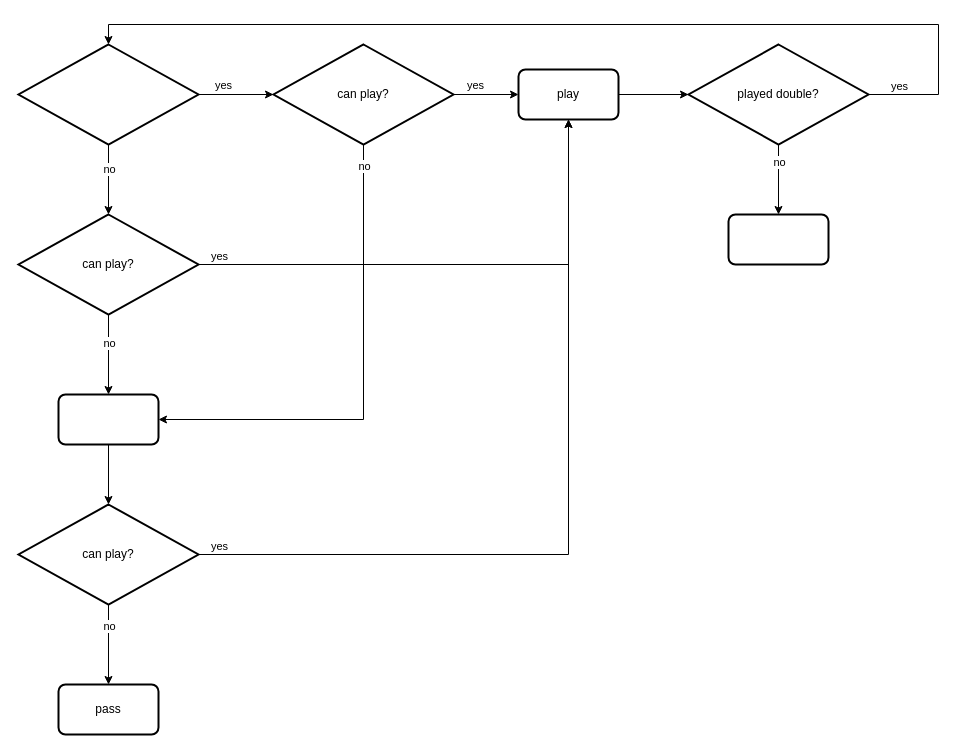
The diagram is 964 pixels wide and 753 high, and some of its shapes have lost their labels. Each missing label, with the centre of its shape:
done: the point at 778,239
draw: the point at 108,419
uncovered double?: the point at 108,94
